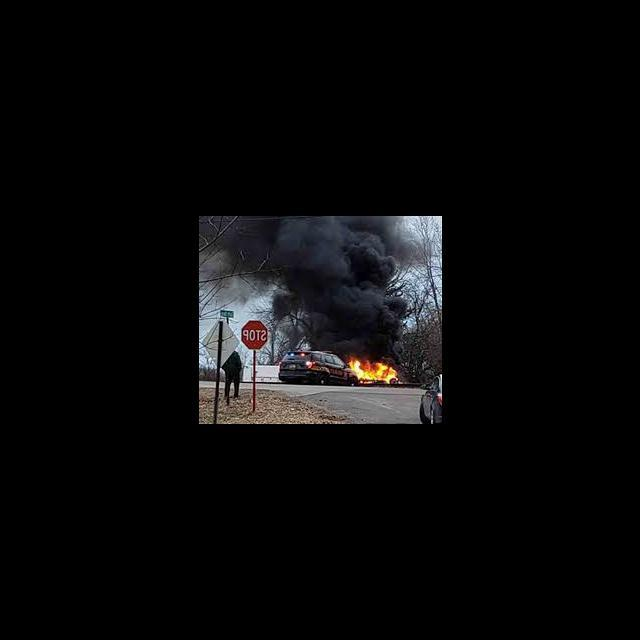Fire: (349, 358, 402, 384)
Smoke: (242, 218, 406, 354)
